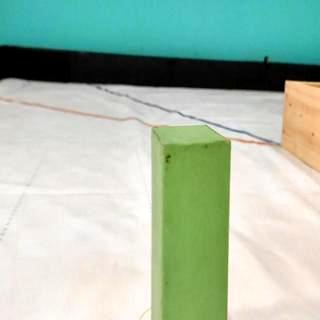greenbox: (151, 124, 233, 320)
